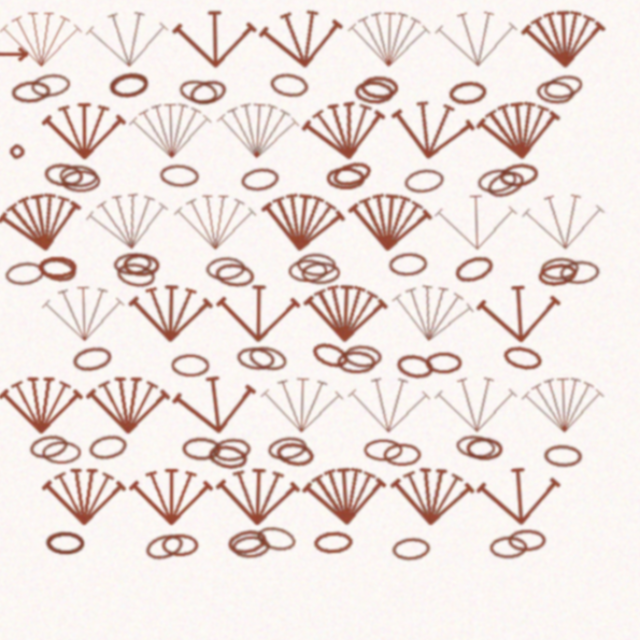chain: (423, 274, 464, 306), (453, 195, 493, 227), (290, 355, 330, 386), (310, 187, 350, 217), (136, 533, 176, 563), (232, 359, 272, 388), (177, 111, 216, 140), (507, 107, 546, 135), (469, 359, 508, 387), (240, 527, 279, 555), (103, 105, 142, 132), (168, 112, 207, 139), (110, 282, 149, 309), (69, 360, 108, 387), (29, 442, 68, 469), (84, 442, 123, 469), (195, 451, 234, 478), (213, 530, 252, 557), (38, 277, 76, 304), (370, 367, 408, 394), (378, 195, 417, 221), (253, 106, 291, 132), (446, 195, 484, 221), (258, 449, 296, 475), (251, 444, 289, 470), (226, 194, 263, 220), (31, 107, 69, 132), (43, 190, 81, 215), (466, 190, 504, 215), (7, 282, 45, 307), (202, 283, 240, 308), (502, 283, 540, 308), (426, 443, 464, 468), (105, 107, 142, 132), (222, 361, 259, 386), (523, 281, 561, 305), (419, 114, 456, 138), (505, 278, 542, 302), (200, 446, 237, 470), (13, 114, 50, 137), (332, 114, 369, 137), (151, 192, 188, 215), (108, 274, 145, 297), (194, 278, 231, 301), (364, 274, 401, 297), (294, 533, 331, 556), (501, 114, 537, 137), (322, 360, 358, 383), (218, 537, 254, 560), (367, 539, 403, 562), (508, 453, 545, 475), (45, 534, 82, 556), (58, 193, 94, 215), (283, 283, 319, 305), (279, 275, 315, 297), (172, 446, 208, 468), (338, 110, 373, 132), (117, 275, 152, 297), (436, 446, 471, 468), (458, 538, 493, 560), (60, 198, 96, 219), (306, 195, 342, 216), (38, 278, 74, 299), (271, 281, 307, 302), (162, 369, 198, 390), (316, 366, 352, 387), (42, 450, 78, 471), (341, 448, 377, 469), (359, 452, 395, 473), (475, 532, 511, 553), (398, 367, 433, 388), (46, 534, 81, 555), (153, 536, 188, 557)
fan: (0, 211, 84, 281), (362, 126, 447, 195), (281, 127, 366, 195), (362, 297, 447, 365), (80, 212, 164, 279), (161, 382, 245, 449), (242, 213, 326, 279), (242, 43, 325, 108), (444, 128, 527, 193), (324, 214, 406, 278), (283, 469, 364, 532), (445, 469, 526, 532), (81, 45, 162, 107), (202, 130, 283, 192), (445, 300, 526, 362), (364, 470, 445, 532), (406, 45, 486, 106), (487, 45, 567, 106), (487, 215, 567, 276), (284, 300, 364, 361), (325, 46, 404, 106), (122, 131, 201, 191), (406, 216, 485, 276), (41, 301, 120, 361), (244, 386, 323, 446), (325, 386, 404, 446), (487, 386, 566, 446), (203, 471, 282, 531), (163, 46, 242, 105), (122, 301, 201, 360), (406, 386, 485, 445), (204, 301, 282, 360), (2, 47, 80, 105), (42, 132, 120, 190), (164, 217, 242, 275), (2, 387, 80, 445), (83, 387, 161, 445), (42, 472, 120, 530), (123, 472, 201, 530)
noise: (606, 425, 628, 447), (0, 84, 31, 97), (10, 172, 27, 189)
